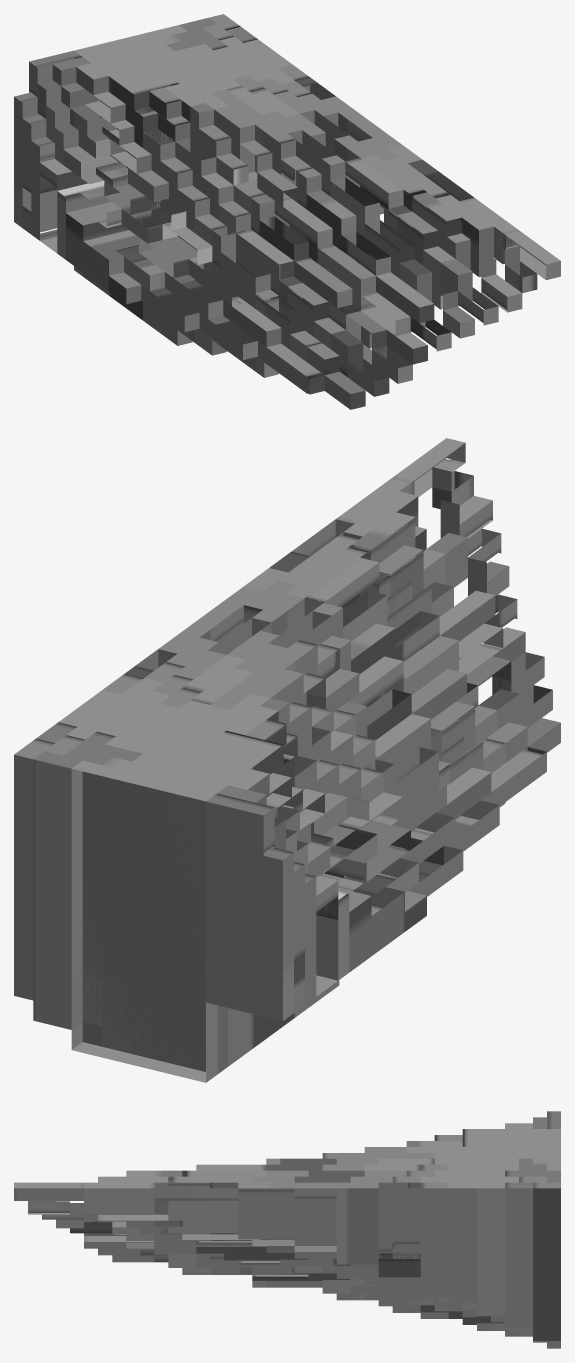
The picture shows the model from 3 angles, top to bottom: view 1: azimuth 30°, elevation 25°; view 2: azimuth 150°, elevation 25°; view 3: azimuth 270°, elevation 25°; orthographic projection. The views are drawn at different scales.
Size of the model in its own units: 1.17 by 1.17 by 3.25.
